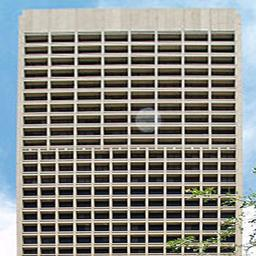building: (15, 7, 242, 256)
